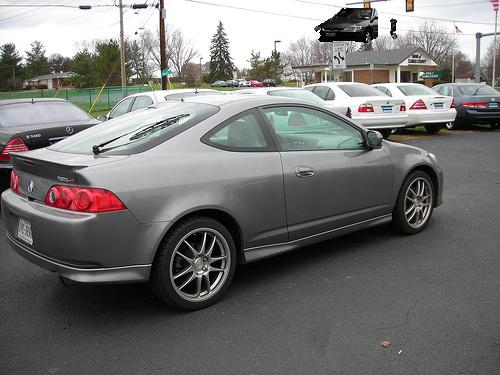tampered: (315, 9, 397, 43)
